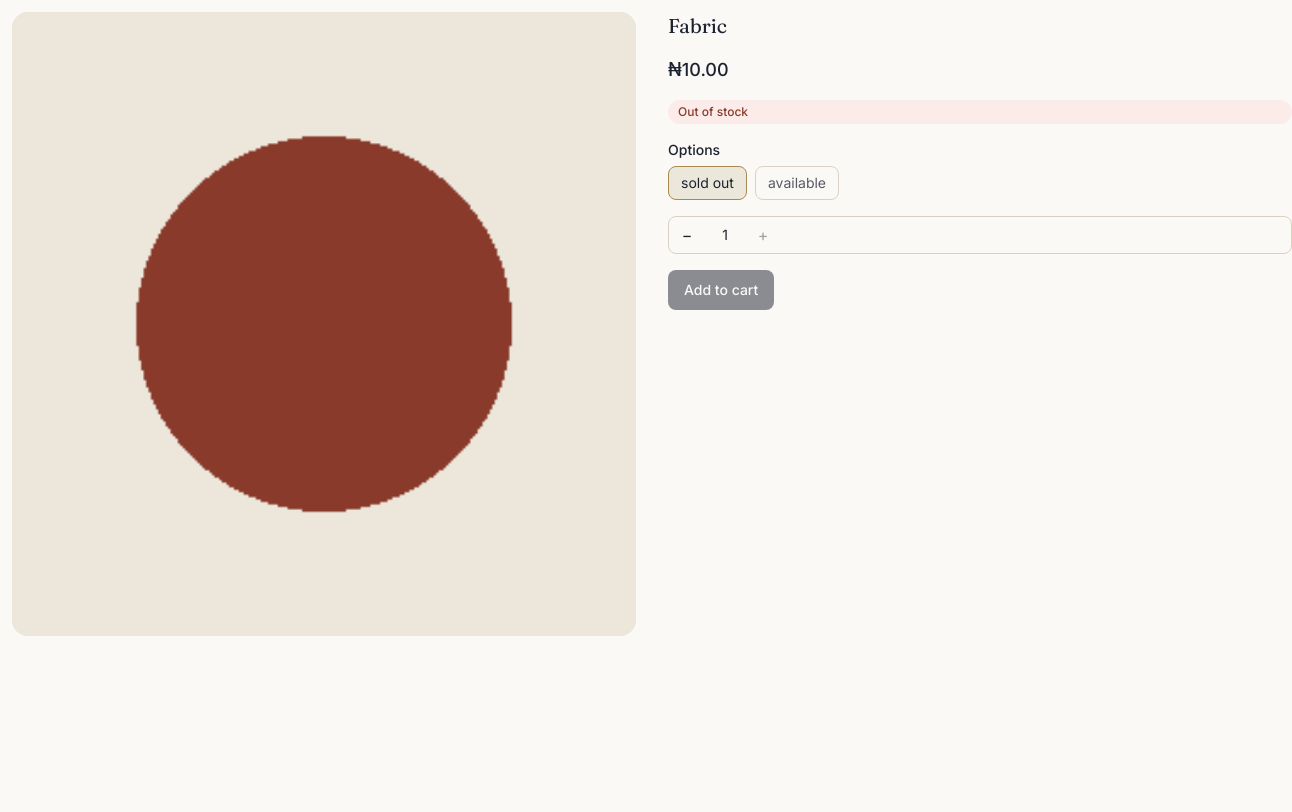
Test: uses selected variant availability and shows add errors without claiming success
Check: the button "Add to cart" is disabled, box [668, 270, 774, 310]
What coordinates should you click on to do the following:
click the button "available"
I would click on:
 (797, 183)
Its box is [755, 166, 839, 200].
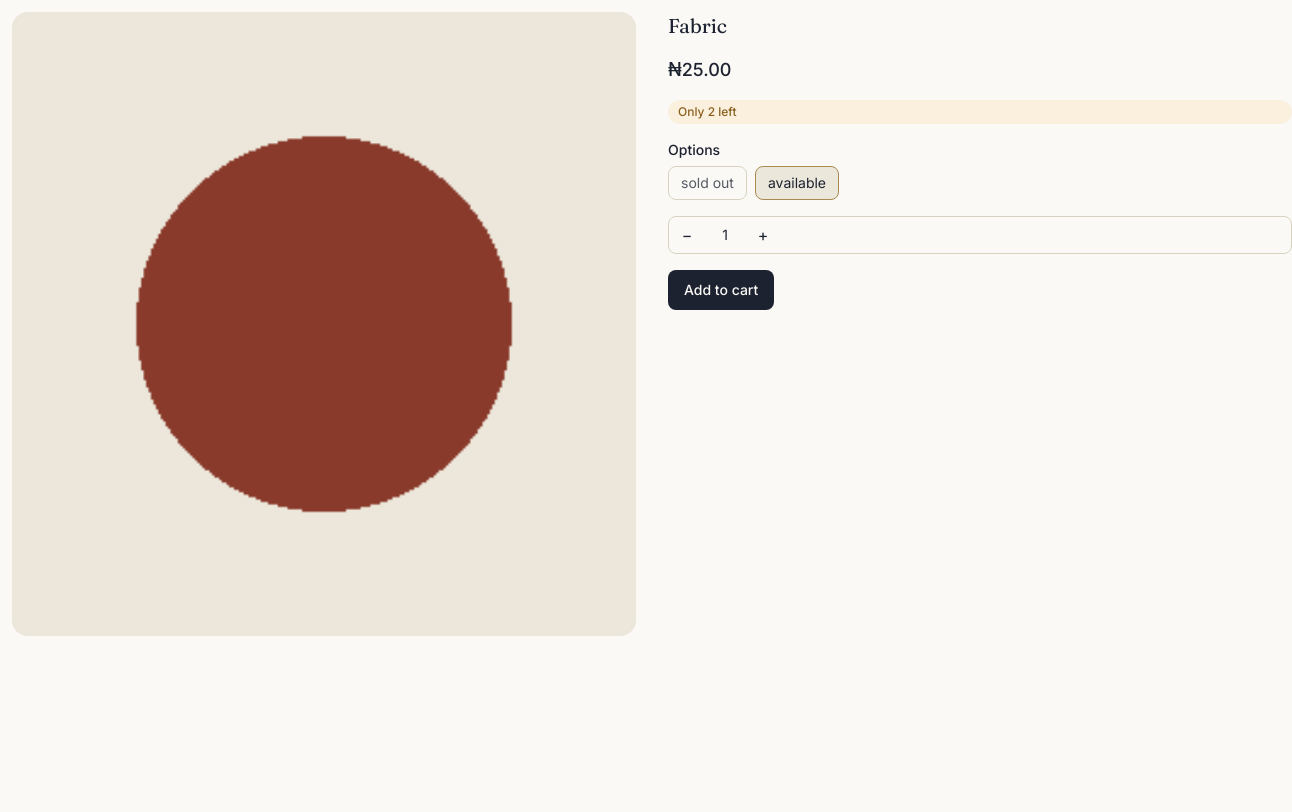
Check: the button "Add to cart" is enabled
What coordinates should you click on to do the following:
click the button "Add to cart"
I would click on:
 (721, 290)
Its box is [668, 270, 774, 310].
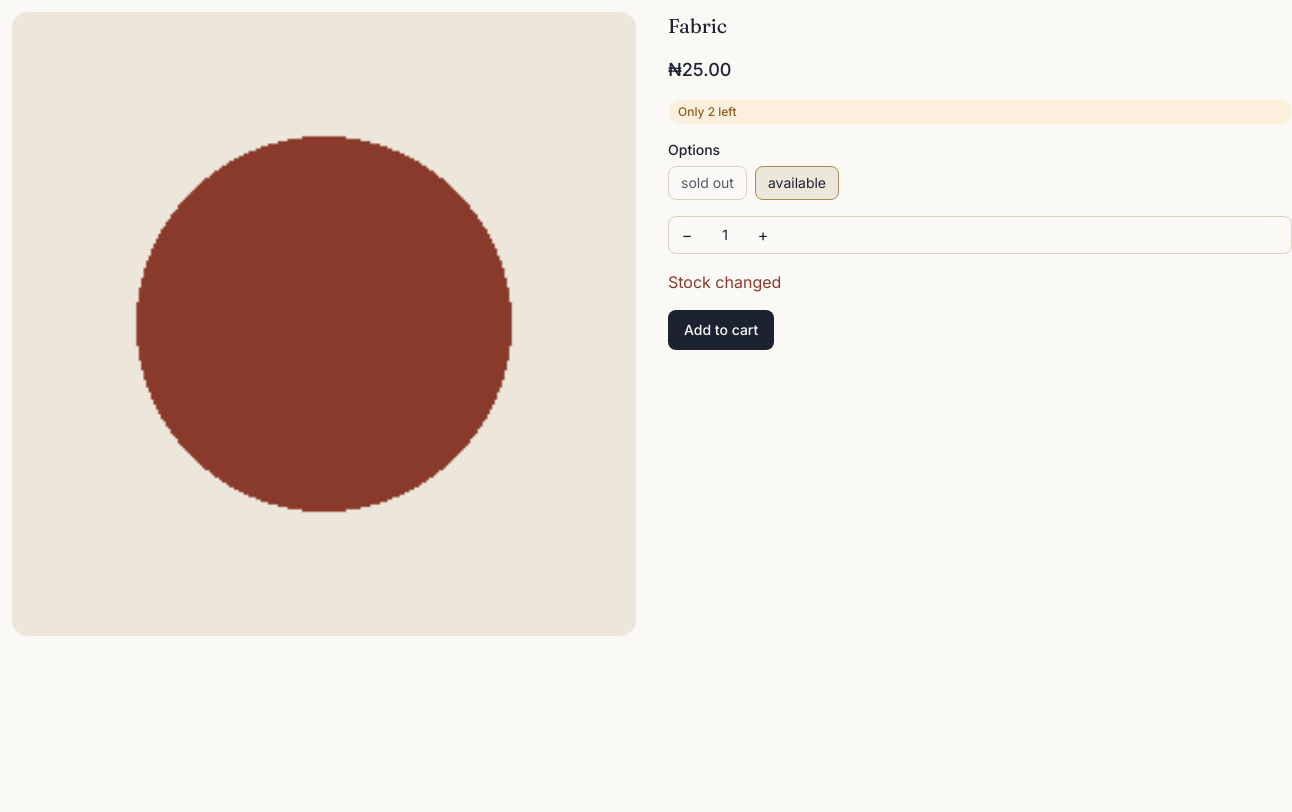
Check: the button "Add to cart" is enabled, box [668, 310, 774, 350]
Check: the message "Stock changed" is shown, box [668, 272, 781, 292]
